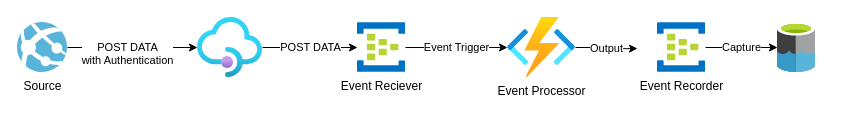
The diagram is 841 pixels wide and 130 high, and some of its shapes have lost their labels. The shapes that lost their labels are listed below. From the top down, each one's centre as x and y in pixels, then its label:
(229,47): Endpoint in API Management
(796,47): Data Lake
